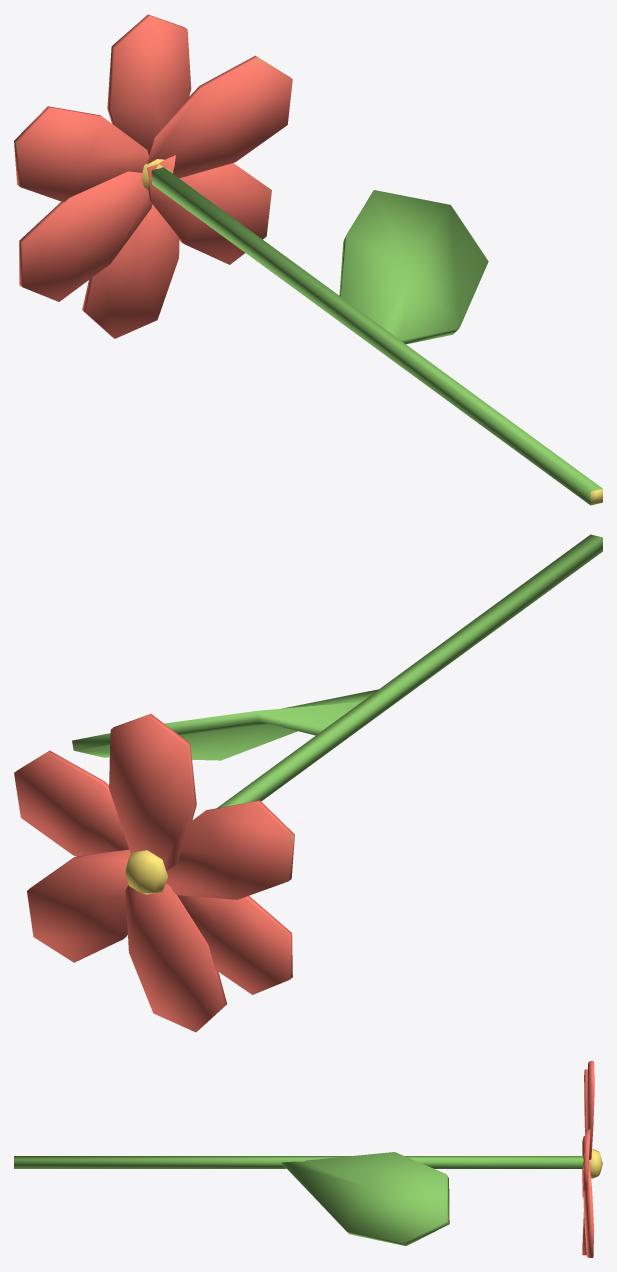
The model's file is flowerpink.fbx.
3 views of the same model, one above another, from view 1: azimuth 30°, elevation 25°; view 2: azimuth 150°, elevation 25°; view 3: azimuth 270°, elevation 25° (orthographic). The views are drawn at different scales.
Parts seen in each view (by area): view 1: Cube; view 2: Cube; view 3: Cube.
Part boxes in pixels (box(x1,y1,x2,y2)): Cube: box(14, 14, 602, 505); Cube: box(14, 534, 602, 1032); Cube: box(14, 1061, 602, 1257).
Size of the model in its own units: 6.07 by 5.39 by 14.4.
